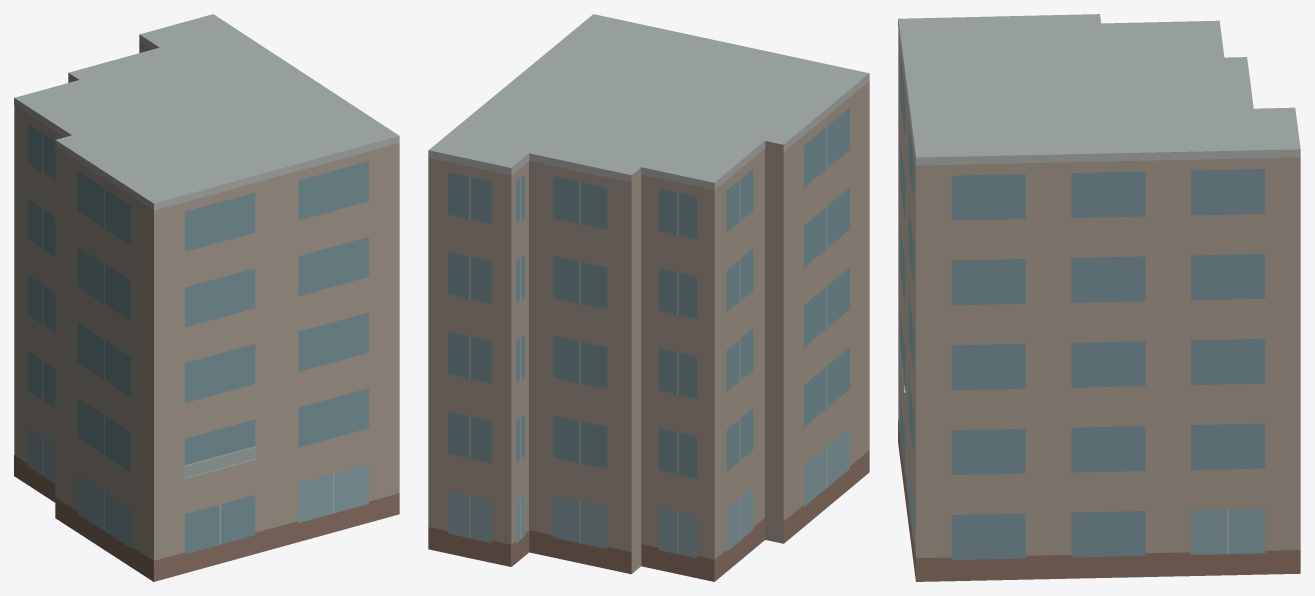
File: survey-upis-32647226.glb
3 views of the same model, side by side, from view 1: azimuth 30°, elevation 25°; view 2: azimuth 150°, elevation 25°; view 3: azimuth 270°, elevation 25° (orthographic). The views are drawn at different scales.
Visible parts, largest first — view 1: survey-upis-32647226.tmp; view 2: survey-upis-32647226.tmp; view 3: survey-upis-32647226.tmp.
Part boxes in pixels (x1,y1,x2,y2): survey-upis-32647226.tmp: (14,14,399,581); survey-upis-32647226.tmp: (428,14,869,581); survey-upis-32647226.tmp: (898,14,1300,581).
Bounding box in the file's own units: 9.44 × 13 × 11.18.
